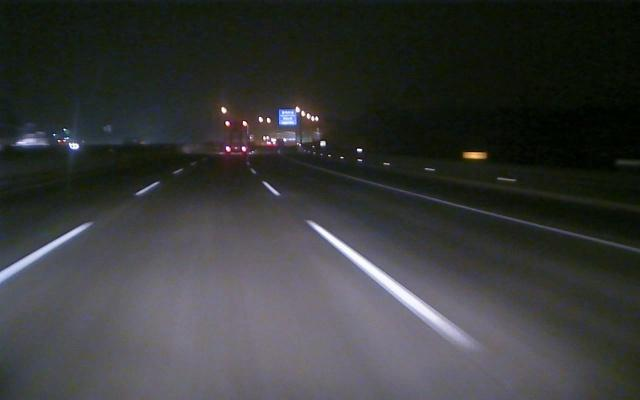lane: (261, 181, 484, 349), (333, 173, 638, 251), (3, 182, 156, 282)
